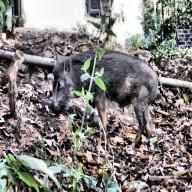boar: (41, 37, 175, 162)
